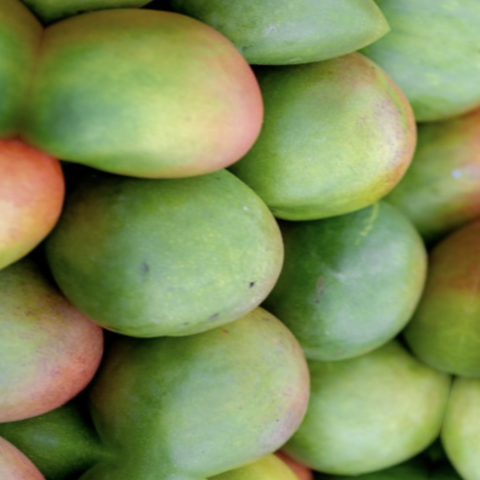mango: (32, 116, 311, 381), (12, 0, 291, 224), (58, 267, 347, 480), (252, 170, 469, 396)
